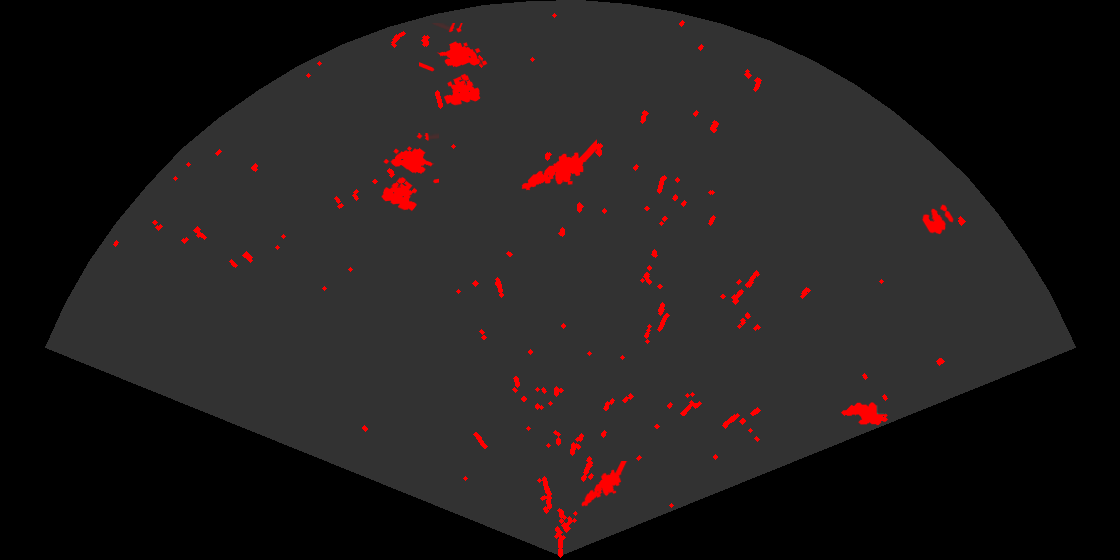AUV: (839, 401, 890, 427)
ball: (920, 203, 955, 236)
cage: (419, 23, 489, 107), (380, 133, 439, 213)
frogman: (520, 138, 597, 192), (577, 461, 628, 517)
